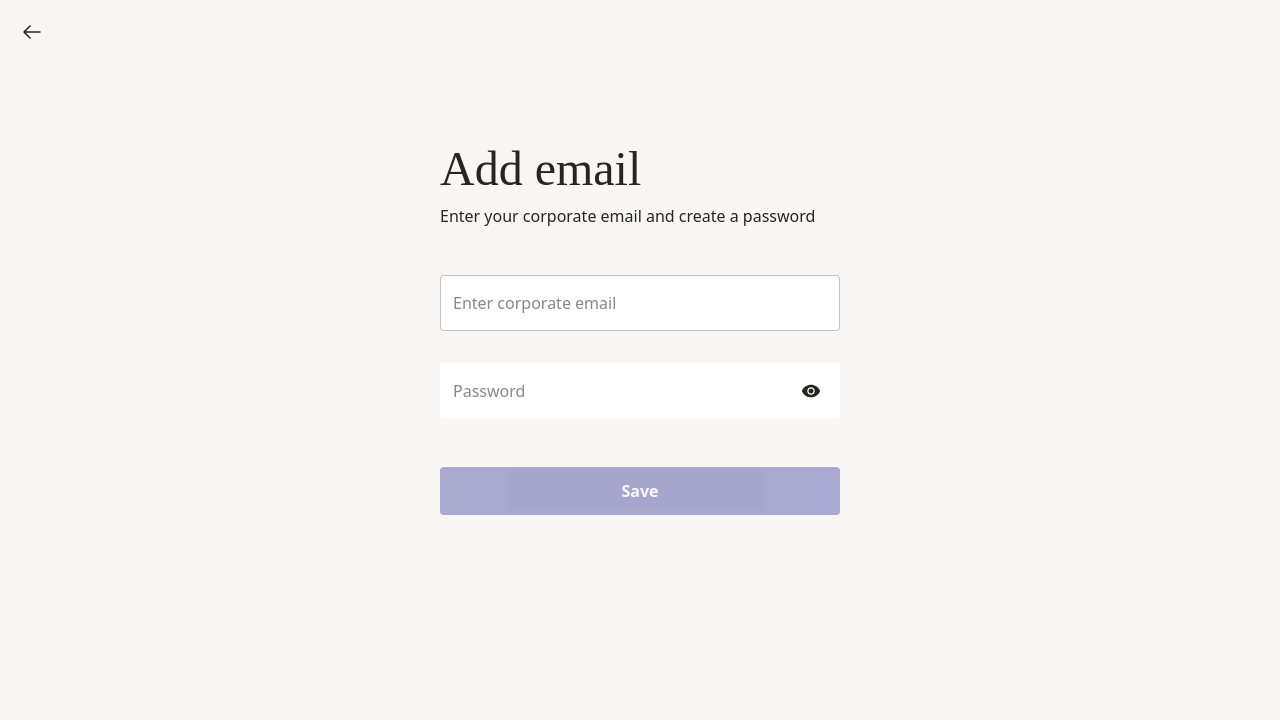
Scenario: AddEmailModal (#1459) › the password eye toggle flips the input type and its accessible name
What coordinates should you click on to do the following:
click the button named "Show password"
I would click on:
 (811, 391)
Its box is [795,375,827,407].
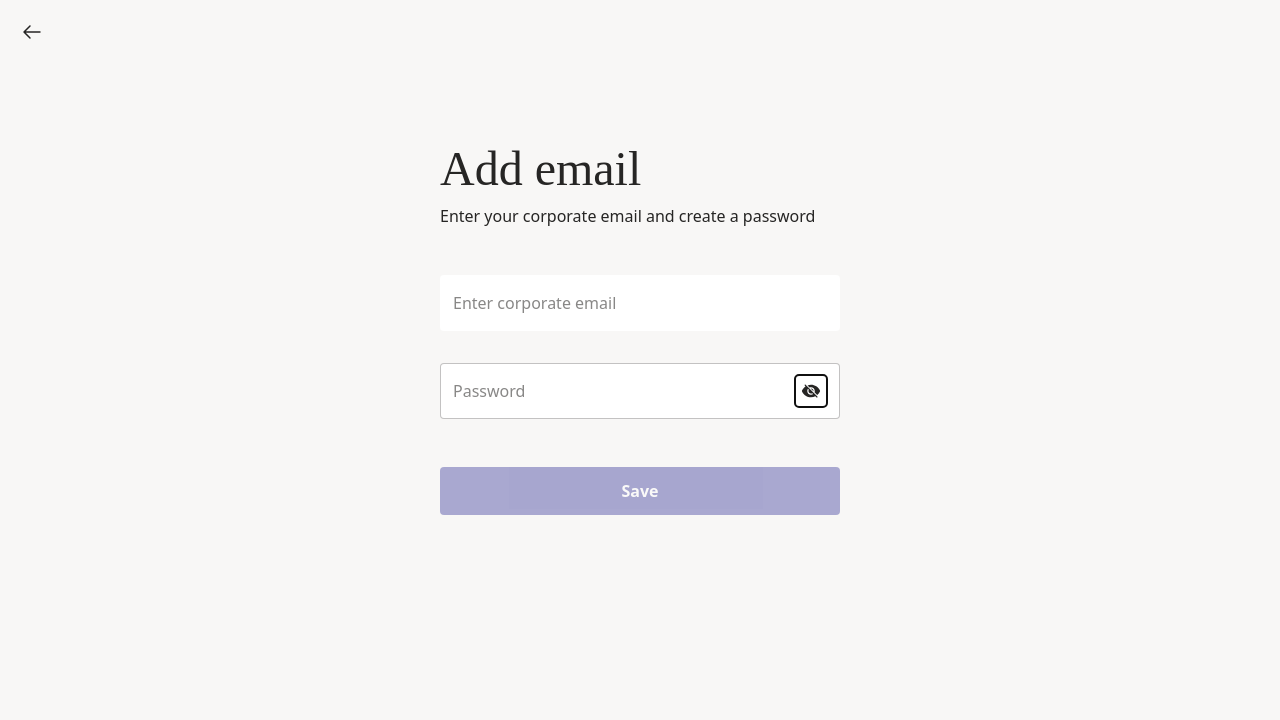
Expected: the button named "Hide password" is shown, [795,375,827,407]
